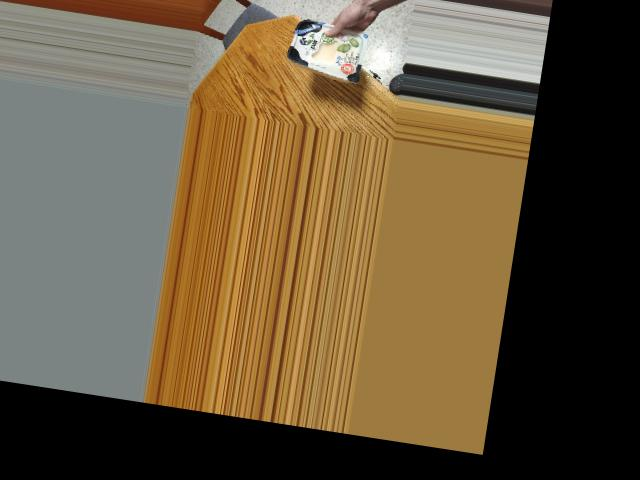cheese: (287, 19, 363, 74)
